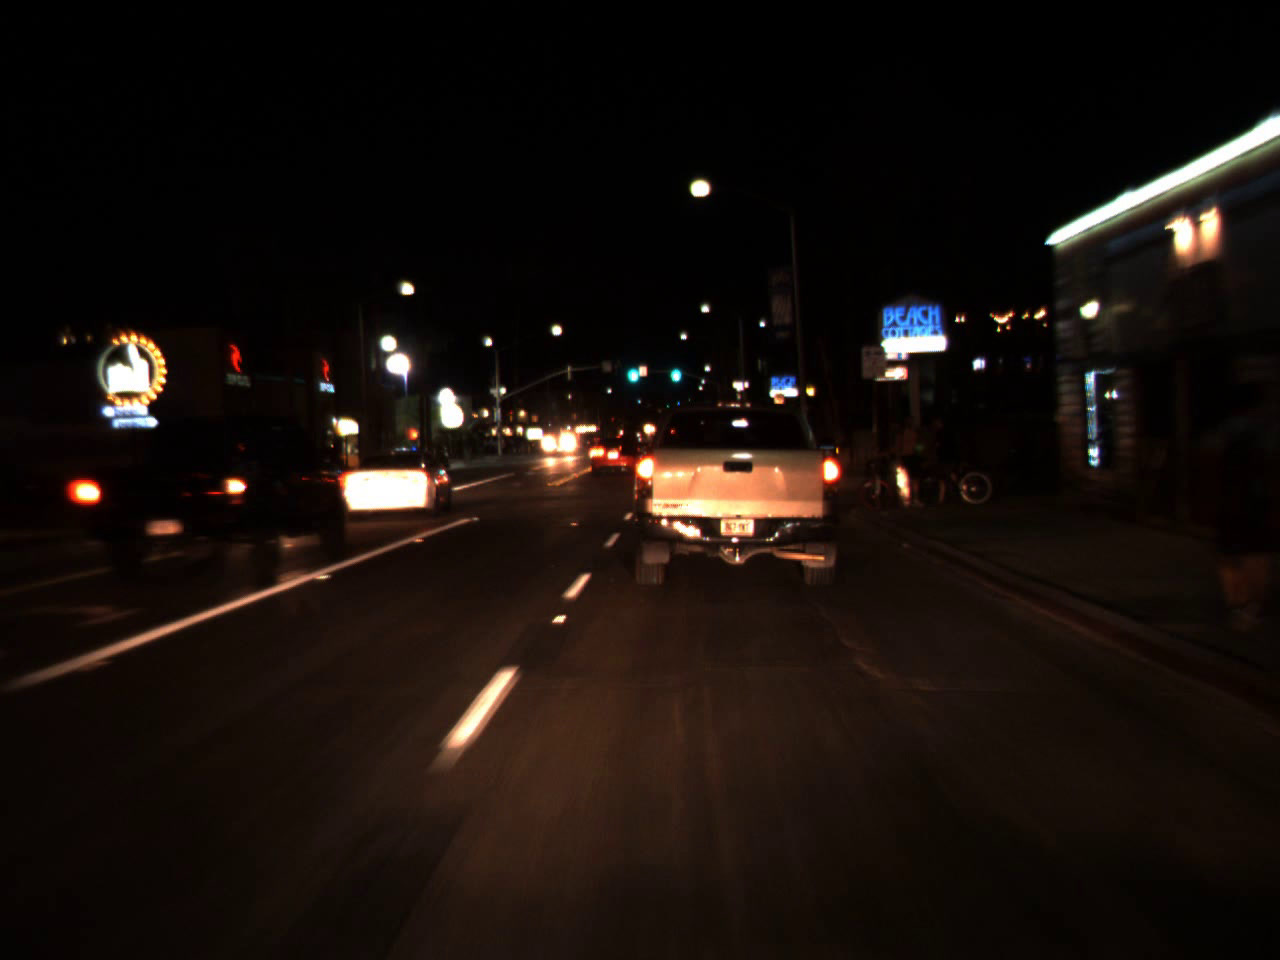go: (622, 353, 643, 386), (667, 355, 683, 385)
